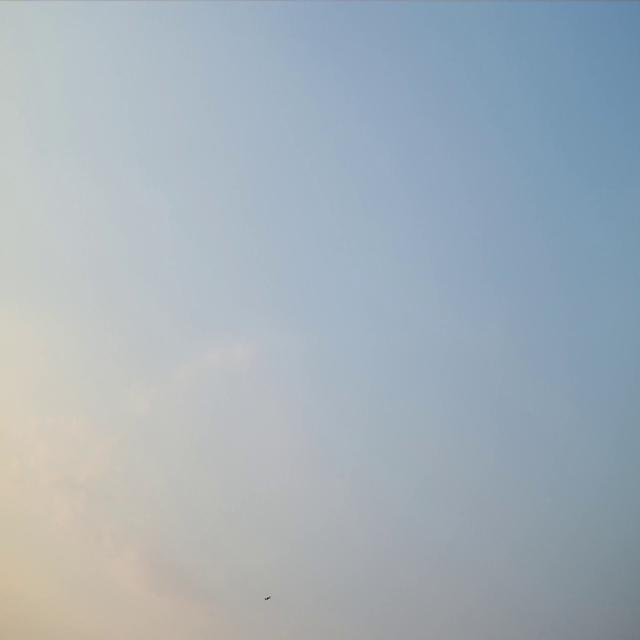UAV: (265, 597, 270, 599)
